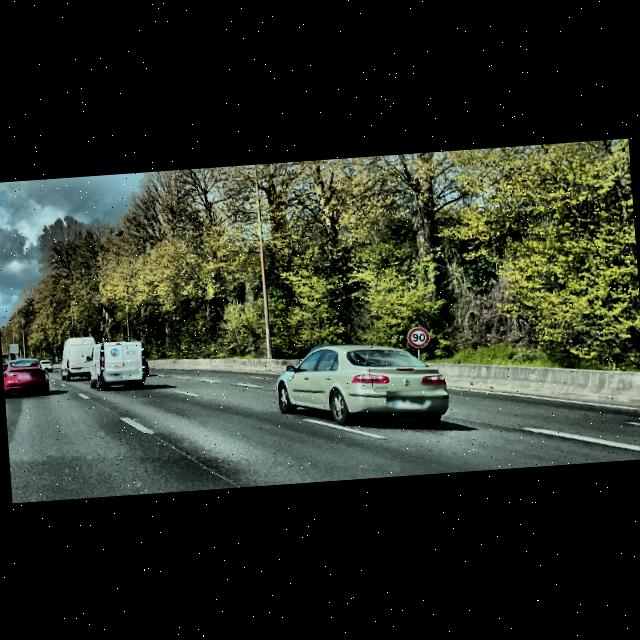speed_90: (406, 324, 432, 348)
